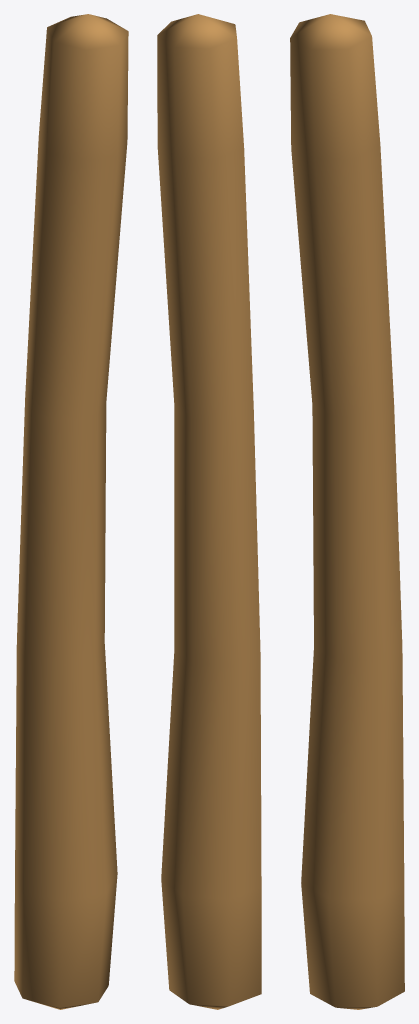
The model's file is tarsus_T2_left_leg.obj.
3 views of the same model, side by side, from view 1: azimuth 90°, elevation 25°; view 2: azimuth 210°, elevation 25°; view 3: azimuth 270°, elevation 25° (orthographic).
Bounding box in the file's own units: 0.00377 × 0.041 × 0.00427.
